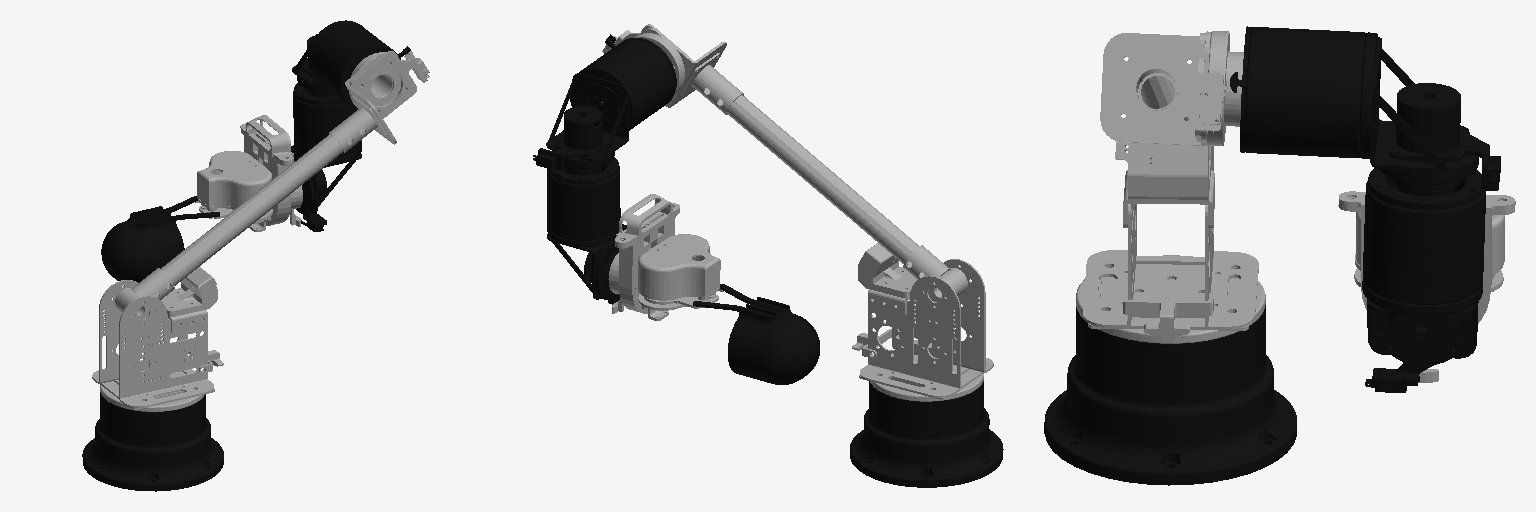
robot.urdf — legacy_pkg:
<?xml version="1.0" encoding="utf-8"?>
<robot name="legacy_pkg">

  <material name="black"><color rgba="0.1 0.1 0.1 1"/></material>
  <material name="light_grey"><color rgba="0.7 0.7 0.7 1"/></material>

  <link name="world"/>
  <joint name="world_to_base" type="fixed">
    <parent link="world"/><child link="base_link"/>
    <origin xyz="0 0 0" rpy="0 0 0"/>
  </joint>

  <link name="base_link">
    <inertial>
      <origin xyz="4.9960036108132E-16 1.14491749414469E-15 0.0535613956407754" rpy="0 0 0" />
      <mass value="1.15555347830253" />
      <inertia ixx="0.00564" ixy="0" ixz="0" iyy="0.00564" iyz="0" izz="0.00783" />
    </inertial>
    <visual><geometry><mesh filename="package://legacy_pkg/meshes/base_link.STL" /></geometry><material name="black"/></visual>
    <collision><geometry><mesh filename="package://legacy_pkg/meshes/base_link.STL" /></geometry></collision>
  </link>

  <link name="Link_1">
    <inertial>
      <origin xyz="0.0196425023341312 -0.00104959271552872 0.0656443813689512" rpy="0 0 0" />
      <mass value="0.608452090334793" /><inertia ixx="0.00095" ixy="8.8E-06" ixz="2.7E-05" iyy="0.00119" iyz="4.1E-06" izz="0.00137" />
    </inertial>
    <visual><geometry><mesh filename="package://legacy_pkg/meshes/Link_1.STL" /></geometry><material name="light_grey"/></visual>
    <collision><geometry><mesh filename="package://legacy_pkg/meshes/Link_1.STL" /></geometry></collision>
  </link>
  <joint name="Joint_1" type="revolute">
    <origin xyz="0 0 0.122" rpy="0 0 0" /><parent link="base_link" /><child link="Link_1" /><axis xyz="0 0 1" />
    <limit lower="-0.017" upper="3.159" effort="150.0" velocity="1.0" />
    <dynamics damping="1.5" friction="1.0"/>
  </joint>

  <link name="Link_2">
    <inertial>
      <origin xyz="0.354361236061949 0.19455847062407 -0.0432395729024948" rpy="0 0 0" />
      <mass value="0.497896346542447" /><inertia ixx="0.00076" ixy="-0.0005" ixz="2.9E-05" iyy="0.00141" iyz="1.1E-05" izz="0.0016" />
    </inertial>
    <visual><geometry><mesh filename="package://legacy_pkg/meshes/Link_2.STL" /></geometry><material name="light_grey"/></visual>
    <collision><geometry><mesh filename="package://legacy_pkg/meshes/Link_2.STL" /></geometry></collision>
  </link>
  <joint name="Joint_2" type="revolute">
    <origin xyz="-0.036133331113001 0.00118601468703684 0.1530586337599" rpy="1.5707963267949 0 -0.032725637613237" />
    <parent link="Link_1" /><child link="Link_2" /><axis xyz="0 0 -1" />
    <limit lower="-2.635" upper="0.017" effort="300.0" velocity="1.0" />
    <dynamics damping="3.0" friction="2.0"/>
  </joint>

  <link name="Link_3">
    <inertial>
      <origin xyz="0.000636310315262213 0.0189159957999437 0.00970618985093467" rpy="0 0 0" />
      <mass value="0.813067644941304" /><inertia ixx="0.00128" ixy="-4.1E-07" ixz="-4.4E-06" iyy="0.00122" iyz="-2.0E-05" izz="0.00152" />
    </inertial>
    <visual><geometry><mesh filename="package://legacy_pkg/meshes/Link_3.STL" /></geometry><material name="black"/></visual>
    <collision><geometry><mesh filename="package://legacy_pkg/meshes/Link_3.STL" /></geometry></collision>
  </link>
  <joint name="Joint_3" type="revolute">
    <origin xyz="0.46477233991376 0.251598125455598 -0.158400697540068" rpy="3.11060343559603 -0.0171149317961304 0.00154520263816538" />
    <parent link="Link_2" /><child link="Link_3" /><axis xyz="0 0 -1" />
    <limit lower="-0.017" upper="3.159" effort="200.0" velocity="1.0" />
    <dynamics damping="2.0" friction="1.5"/>
  </joint>

  <link name="Link_4">
    <inertial>
      <origin xyz="-0.00841197038063141 -0.000161880434022071 -0.00469047255587729" rpy="0 0 0" />
      <mass value="0.638395687976236" /><inertia ixx="0.00088" ixy="1.4E-06" ixz="1.4E-05" iyy="0.00085" iyz="-3.9E-06" izz="0.00109" />
    </inertial>
    <visual><geometry><mesh filename="package://legacy_pkg/meshes/Link_4.STL" /></geometry><material name="black"/></visual>
    <collision><geometry><mesh filename="package://legacy_pkg/meshes/Link_4.STL" /></geometry></collision>
  </link>
  <joint name="Joint_4" type="revolute">
    <origin xyz="0.00193422465986332 0.158595285492459 0.0806070799354807" rpy="-1.5707963267949 -0.0498682123174333 -0.0121953737359868" />
    <parent link="Link_3" /><child link="Link_4" />
    <axis xyz="0 0 1" /> <limit lower="-0.017" upper="3.159" effort="80.0" velocity="2.0" />
  </joint>

  <link name="Link_5">
    <inertial>
      <origin xyz="-0.00522938401848849 -0.0194082765628301 0.0213025001251292" rpy="0 0 0" />
      <mass value="0.456511376776955" /><inertia ixx="0.00057" ixy="2.6E-05" ixz="7.8E-06" iyy="0.00065" iyz="2.7E-05" izz="0.00091" />
    </inertial>
    <visual><geometry><mesh filename="package://legacy_pkg/meshes/Link_5.STL" /></geometry><material name="light_grey"/></visual>
    <collision><geometry><mesh filename="package://legacy_pkg/meshes/Link_5.STL" /></geometry></collision>
  </link>
  <joint name="Joint_5" type="revolute">
    <origin xyz="-0.0974961314222137 -0.00465257036148067 0.0731070799341241" rpy="1.5707963267949 -0.250189199838187 -1.52311193748308" />
    <parent link="Link_4" /><child link="Link_5" /><axis xyz="0 0 -1" />
    <limit lower="-0.017" upper="3.159" effort="80.0" velocity="2.0" />
  </joint>

  <link name="Servo_Gear">
    <inertial><mass value="0.05"/><inertia ixx="0.0001" ixy="0" ixz="0" iyy="0.0001" iyz="0" izz="0.0001"/></inertial>
    <visual><geometry><mesh filename="package://legacy_pkg/meshes/Servo_Gear.STL" /></geometry><material name="light_grey"/></visual>
    <collision><geometry><mesh filename="package://legacy_pkg/meshes/Servo_Gear.STL" /></geometry></collision>
  </link>
  <joint name="Servo_Gear_Joint" type="revolute">
    <origin xyz="-0.0262574229609702 0.0173435281393812 0.0555000000000031" rpy="1.57079632679488 1.52345600277097 -0.277058128904501" />
    <parent link="Link_5" /><child link="Servo_Gear" /><axis xyz="0 0 1" /><limit lower="-1.5" upper="1.5" effort="40.0" velocity="2.0" />
  </joint>

  <link name="Follower_Gear">
    <inertial><mass value="0.05"/><inertia ixx="0.0001" ixy="0" ixz="0" iyy="0.0001" iyz="0" izz="0.0001"/></inertial>
    <visual><geometry><mesh filename="package://legacy_pkg/meshes/Follower_Gear.STL" /></geometry><material name="light_grey"/></visual>
    <collision><geometry><mesh filename="package://legacy_pkg/meshes/Follower_Gear.STL" /></geometry></collision>
  </link>
  <joint name="Follower_Gear_Joint" type="revolute">
    <origin xyz="0.029895328042482 -0.00455073137108009 0.0554999999998389" rpy="1.57079632679488 1.52345600277097 -0.277058128904509" />
    <parent link="Link_5" /><child link="Follower_Gear" /><axis xyz="0 0 -1" /><limit lower="-1.5" upper="1.5" effort="40.0" velocity="2.0" />
  </joint>

  <link name="Left_Gripper">
    <inertial><mass value="0.1"/><inertia ixx="0.0002" ixy="0" ixz="0" iyy="0.0002" iyz="0" izz="0.0002"/></inertial>
    <visual><geometry><mesh filename="package://legacy_pkg/meshes/Left_Gripper.STL" /></geometry><material name="black"/></visual>
    <collision><geometry><mesh filename="package://legacy_pkg/meshes/Left_Gripper.STL" /></geometry></collision>
  </link>
  <joint name="Left_Gripper_Joint" type="revolute">
    <origin xyz="-0.0599831378951265 -0.00142237643539467 0.00970000392485049" rpy="0 0 0" /><parent link="Servo_Gear" /><child link="Left_Gripper" />
    <axis xyz="0 0 -1" /><limit lower="-1.5" upper="1.5" effort="40.0" velocity="2.0" />
  </joint>

  <link name="Right_Gripper">
    <inertial><mass value="0.1"/><inertia ixx="0.0002" ixy="0" ixz="0" iyy="0.0002" iyz="0" izz="0.0002"/></inertial>
    <visual><geometry><mesh filename="package://legacy_pkg/meshes/Right_Gripper.STL" /></geometry><material name="black"/></visual>
    <collision><geometry><mesh filename="package://legacy_pkg/meshes/Right_Gripper.STL" /></geometry></collision>
  </link>
  <joint name="Right_Gripper_Joint" type="revolute">
    <origin xyz="-0.0595800110279714 0.00708676836980149 0.004" rpy="0 0 0" /><parent link="Follower_Gear" /><child link="Right_Gripper" />
    <axis xyz="0 0 1" /><limit lower="-1.5" upper="1.5" effort="40.0" velocity="2.0" />
  </joint>

  <gazebo reference="base_link"><visual><material><ambient>0.1 0.1 0.1 1</ambient><diffuse>0.1 0.1 0.1 1</diffuse></material></visual></gazebo>
  <gazebo reference="Link_1"><visual><material><ambient>0.7 0.7 0.7 1</ambient><diffuse>0.7 0.7 0.7 1</diffuse></material></visual></gazebo>
  <gazebo reference="Link_2"><visual><material><ambient>0.7 0.7 0.7 1</ambient><diffuse>0.7 0.7 0.7 1</diffuse></material></visual></gazebo>
  <gazebo reference="Link_3"><visual><material><ambient>0.1 0.1 0.1 1</ambient><diffuse>0.1 0.1 0.1 1</diffuse></material></visual></gazebo>
  <gazebo reference="Link_4"><visual><material><ambient>0.1 0.1 0.1 1</ambient><diffuse>0.1 0.1 0.1 1</diffuse></material></visual></gazebo>
  <gazebo reference="Link_5"><visual><material><ambient>0.7 0.7 0.7 1</ambient><diffuse>0.7 0.7 0.7 1</diffuse></material></visual></gazebo>
  <gazebo reference="Servo_Gear"><visual><material><ambient>0.7 0.7 0.7 1</ambient><diffuse>0.7 0.7 0.7 1</diffuse></material></visual></gazebo>
  <gazebo reference="Follower_Gear"><visual><material><ambient>0.7 0.7 0.7 1</ambient><diffuse>0.7 0.7 0.7 1</diffuse></material></visual></gazebo>
  <gazebo reference="Left_Gripper"><visual><material><ambient>0.1 0.1 0.1 1</ambient><diffuse>0.1 0.1 0.1 1</diffuse></material></visual></gazebo>
  <gazebo reference="Right_Gripper"><visual><material><ambient>0.1 0.1 0.1 1</ambient><diffuse>0.1 0.1 0.1 1</diffuse></material></visual></gazebo>

  <ros2_control name="RobotSystem" type="system">
    <hardware><plugin>gz_ros2_control/GazeboSimSystem</plugin></hardware>
    <joint name="Joint_1"><command_interface name="position"/><state_interface name="position"/><state_interface name="velocity"/></joint>
    <joint name="Joint_2"><command_interface name="position"/><state_interface name="position"/><state_interface name="velocity"/></joint>
    <joint name="Joint_3"><command_interface name="position"/><state_interface name="position"/><state_interface name="velocity"/></joint>
    <joint name="Joint_4"><command_interface name="position"/><state_interface name="position"/><state_interface name="velocity"/></joint>
    <joint name="Joint_5"><command_interface name="position"/><state_interface name="position"/><state_interface name="velocity"/></joint>
    <joint name="Servo_Gear_Joint"><command_interface name="position"/><state_interface name="position"/><state_interface name="velocity"/></joint>
    <joint name="Left_Gripper_Joint"><command_interface name="position"/><state_interface name="position"/><state_interface name="velocity"/></joint>
    <joint name="Follower_Gear_Joint"><command_interface name="position"/><state_interface name="position"/><state_interface name="velocity"/></joint>
    <joint name="Right_Gripper_Joint"><command_interface name="position"/><state_interface name="position"/><state_interface name="velocity"/></joint>
  </ros2_control>

  <gazebo>
    <plugin filename="gz_ros2_control-system" name="gz_ros2_control::GazeboSimROS2ControlPlugin">
      <parameters>package://legacy_moveit/config/ros2_controllers.yaml</parameters>
    </plugin>
  </gazebo>

</robot>

--- What the picture shows (computed from the rendered views, not written in the file) ---
Views: 3 orthographic renders of the robot side by side, from view 1: azimuth 30°, elevation 25°; view 2: azimuth 150°, elevation 25°; view 3: azimuth 270°, elevation 25°.
Robot: legacy_pkg — 11 links, 10 joints (9 revolute, 1 fixed); root link world; default pose: all joints at 0.
Visible links, largest first — view 1: Link_1, Link_2, base_link, Link_5, Link_3, Link_4, Left_Gripper, Right_Gripper; view 2: Link_1, base_link, Link_3, Link_2, Link_5, Link_4, Right_Gripper, Left_Gripper; view 3: base_link, Link_3, Link_4, Link_1, Link_2, Link_5.
Boxes of the visible links, box(x1,y1,x2,y2) form: Link_1: box(92, 267, 223, 411); Link_2: box(115, 51, 429, 319); base_link: box(82, 392, 223, 491); Link_5: box(197, 115, 302, 231); Link_3: box(292, 20, 410, 109); Link_4: box(291, 83, 361, 231); Left_Gripper: box(105, 212, 219, 282); Right_Gripper: box(101, 196, 197, 273); Link_1: box(852, 243, 993, 401); base_link: box(850, 381, 1003, 487); Link_3: box(533, 34, 676, 175); Link_2: box(602, 24, 967, 302); Link_5: box(608, 194, 720, 320); Link_4: box(547, 157, 626, 304); Right_Gripper: box(693, 301, 810, 384); Left_Gripper: box(720, 284, 819, 378); base_link: box(1044, 305, 1296, 485); Link_3: box(1230, 26, 1500, 195); Link_4: box(1362, 168, 1498, 392); Link_1: box(1076, 141, 1265, 343); Link_2: box(1100, 31, 1243, 145); Link_5: box(1338, 191, 1515, 382).
Size in the robot's own frame: 0.6229 by 0.4098 by 0.5879 metres.
10 mesh visuals loaded from 10 distinct referenced files (10 binary STL).